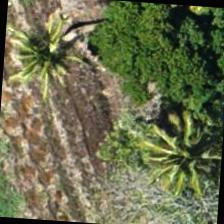Kelapa_Sawit: (4, 3, 100, 98), (156, 100, 224, 196)
